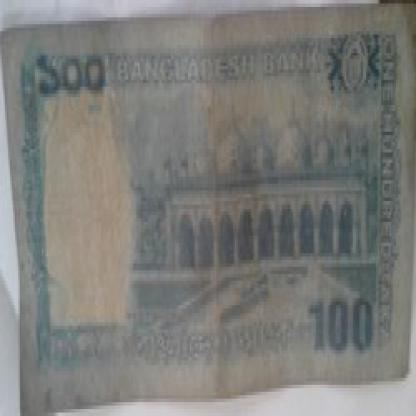one hundred taka: (306, 291, 376, 364), (35, 38, 108, 101)
